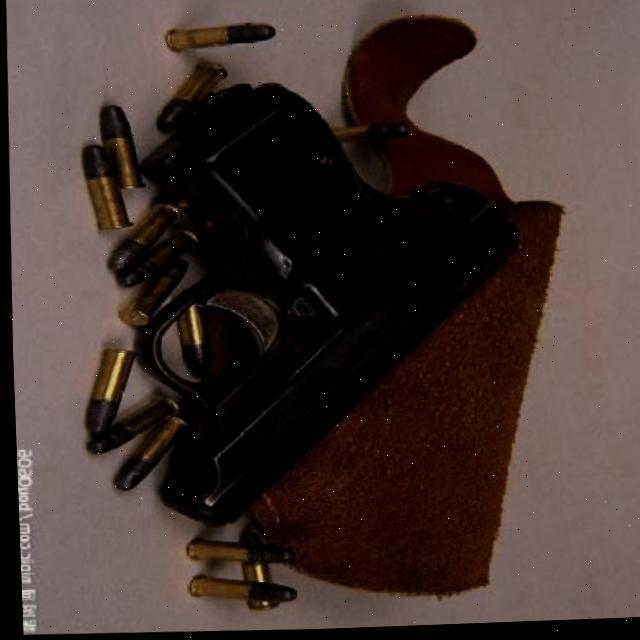gun: (120, 74, 532, 533)
